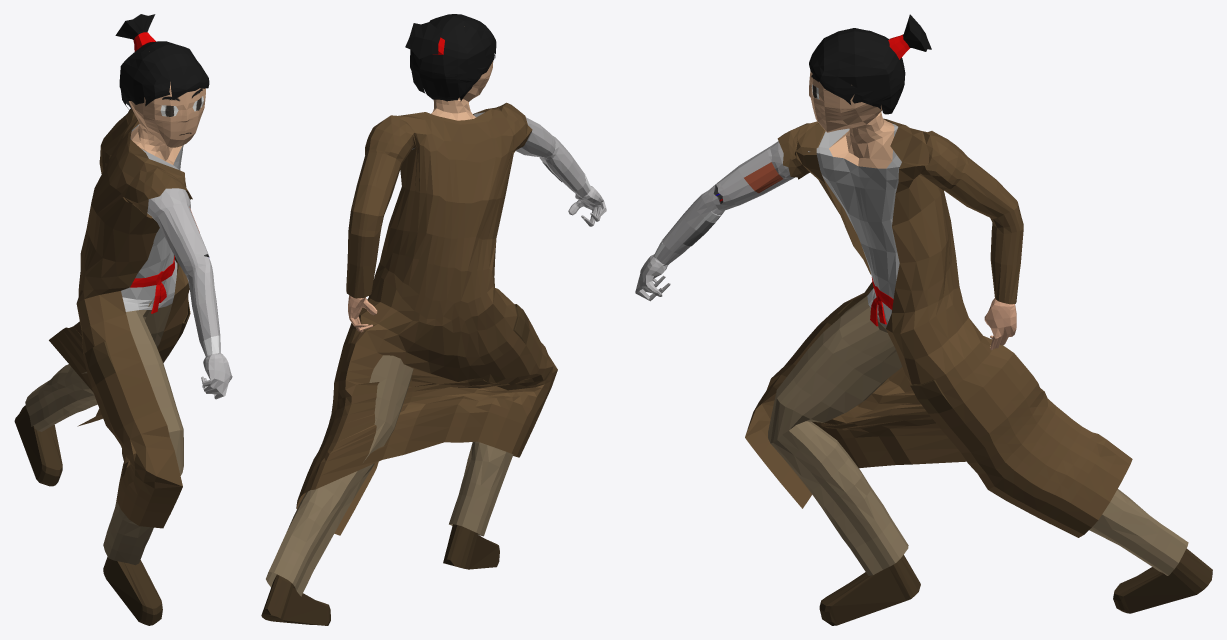
Rendered from OneAnimationTest_000015.obj.
The picture shows the model from 3 angles, left to right: view 1: azimuth 30°, elevation 25°; view 2: azimuth 150°, elevation 25°; view 3: azimuth 270°, elevation 25°; orthographic projection. The views are drawn at different scales.
Visible parts, largest first — view 1: Jacket_Cube, Body_Cube.003, Hair_Cube.004; view 2: Jacket_Cube, Body_Cube.003, Hair_Cube.004; view 3: Jacket_Cube, Body_Cube.003, Hair_Cube.004.
Boxes of the visible parts, box(x1,y1,x2,y2) form: Jacket_Cube: box(49, 108, 192, 528); Body_Cube.003: box(14, 82, 232, 625); Hair_Cube.004: box(115, 14, 209, 109); Jacket_Cube: box(296, 102, 557, 535); Body_Cube.003: box(261, 61, 606, 625); Hair_Cube.004: box(405, 14, 496, 101); Jacket_Cube: box(745, 118, 1132, 537); Body_Cube.003: box(635, 71, 1212, 625); Hair_Cube.004: box(809, 14, 931, 114).
Size of the model in its own units: 0.8859 by 3.64 by 3.08.
